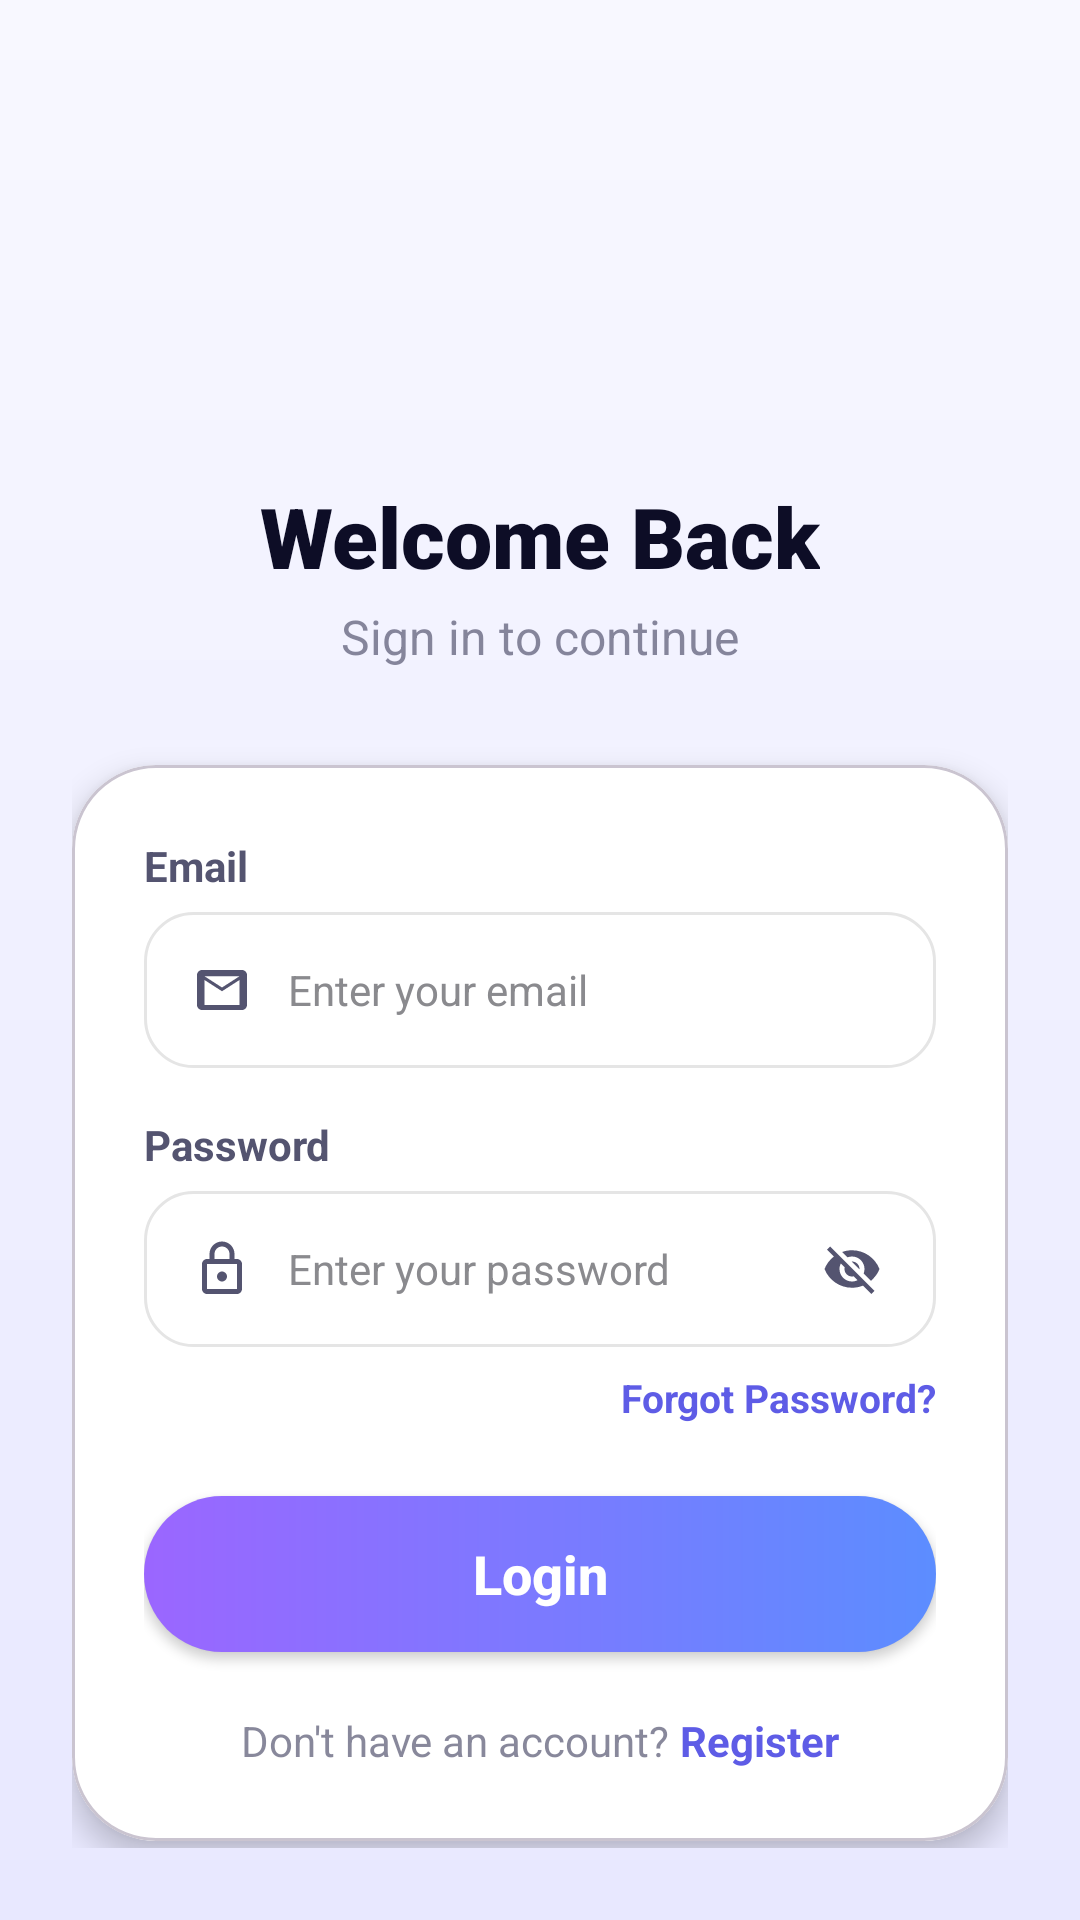

Screen size 1080w x 1920h. Icon name, then its box in pixels as region(x1, y1, x2, y2):
lock: region(202, 1241, 242, 1294)
Toggle Password Visibility: region(824, 1246, 880, 1294)
